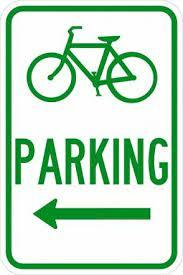Parking Lot Cycle: (4, 7, 179, 266)
